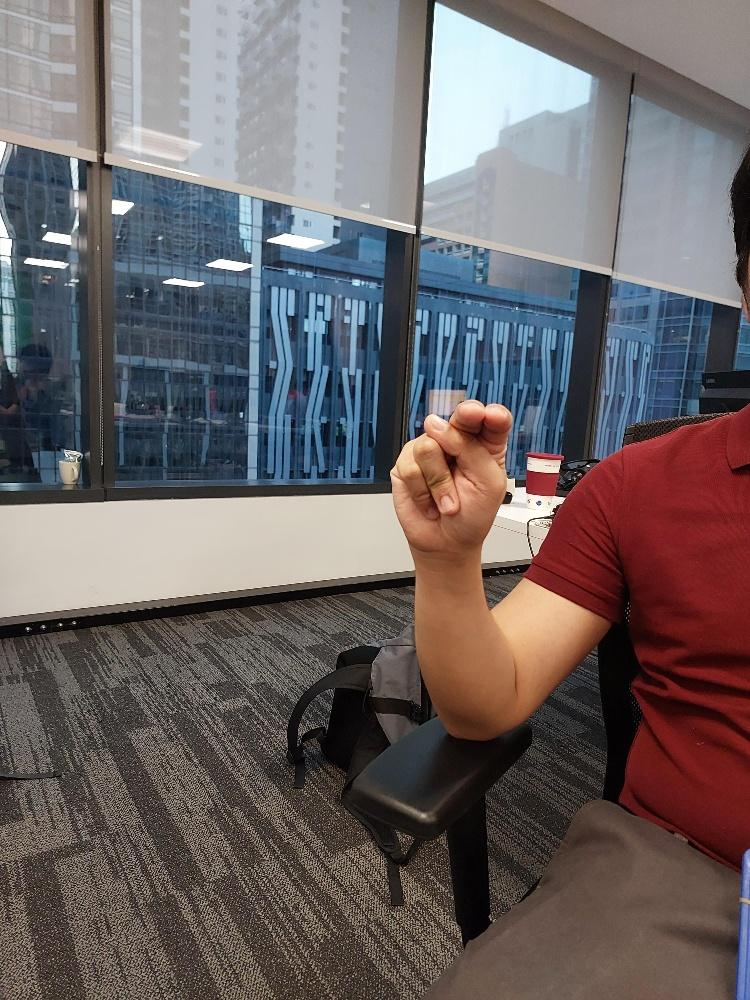n: (388, 398, 515, 568)
